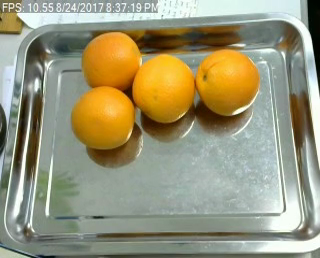Orange: (195, 48, 259, 115), (133, 52, 195, 121), (70, 84, 136, 148), (81, 31, 142, 91)
